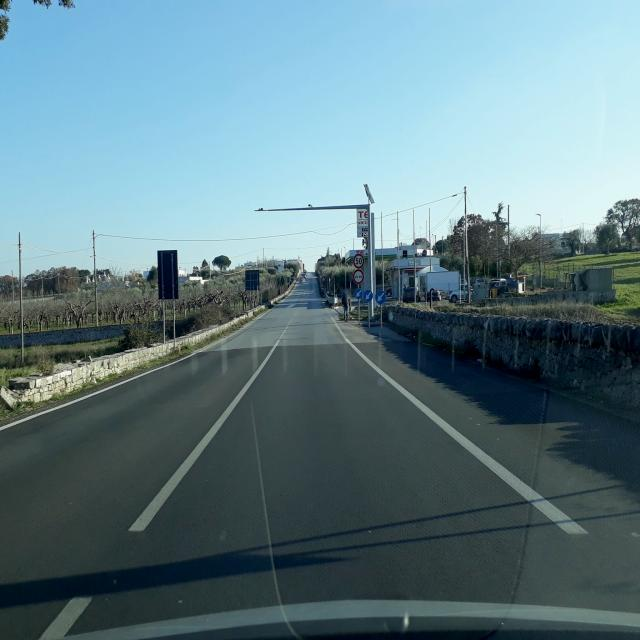car: (402, 285, 419, 303), (427, 287, 442, 302), (376, 289, 385, 304)
